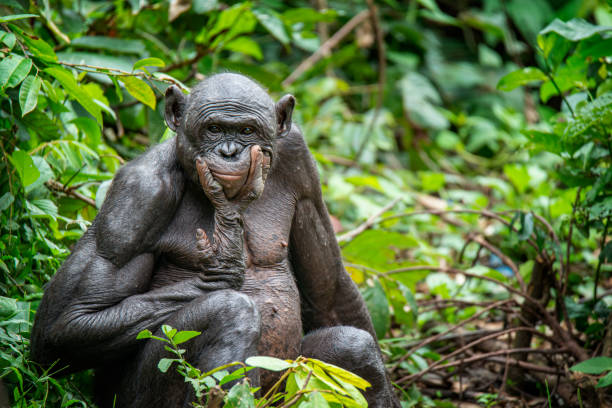chimpanzee: (148, 59, 310, 204)
